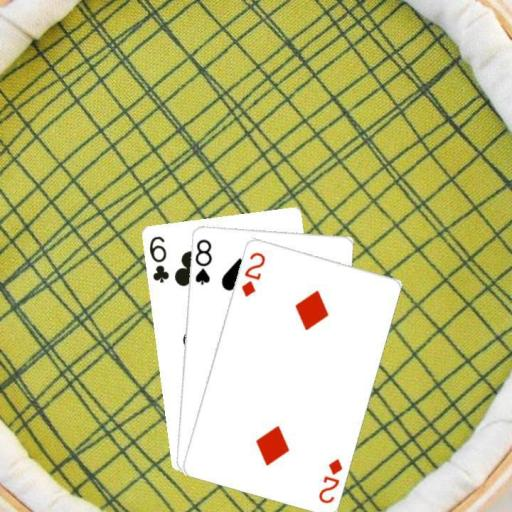card-corner: (238, 248, 267, 298), (315, 455, 343, 505), (146, 232, 170, 284), (191, 236, 213, 286)
